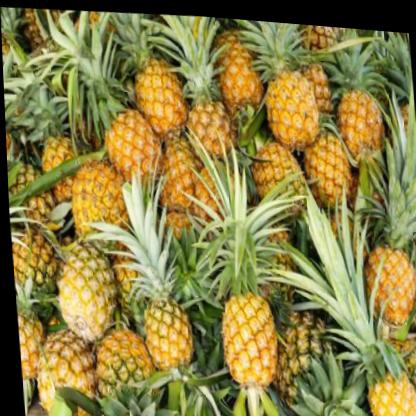----: (97, 187, 197, 378), (312, 245, 416, 416), (351, 140, 416, 328), (213, 277, 284, 416), (251, 16, 322, 151), (49, 226, 119, 349), (122, 35, 193, 137), (96, 88, 167, 186)
